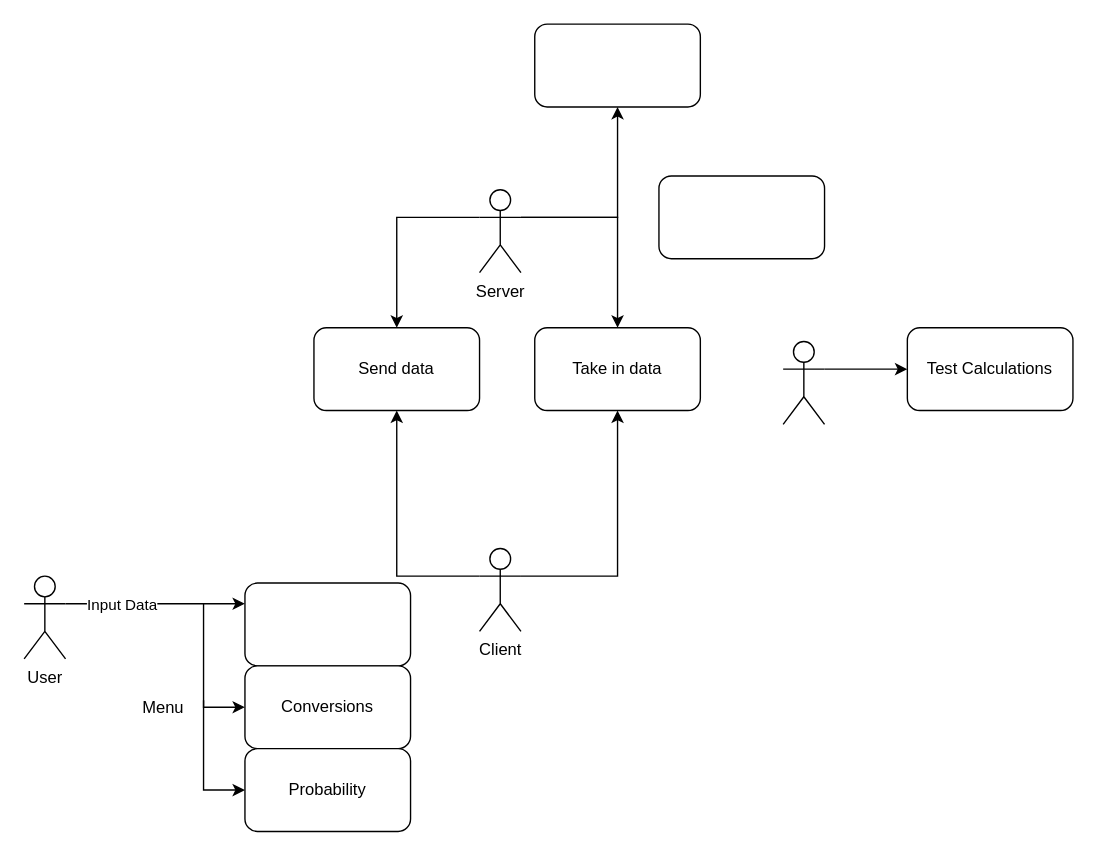
This 1097x856 diagram has some shape labels left out. Each missing label, with the centre of its shape:
"Developers" belongs at pixel 803 382.
"Log Requests for Data, and Sent Data" belongs at pixel 616 65.
"Matrix Calculations" belongs at pixel 327 624.
"Process data" belongs at pixel 741 217.
